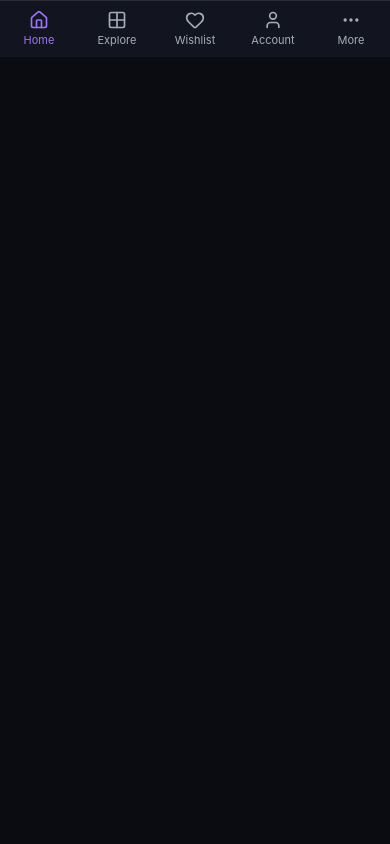
Test: AppBottomNav — More menu › shows Notifications and Help as honestly disabled for a CUSTOMER — never fake working links
This screenshot has width=390, height=844.
Click the button "More" at (351, 29), box [312,1,389,57]
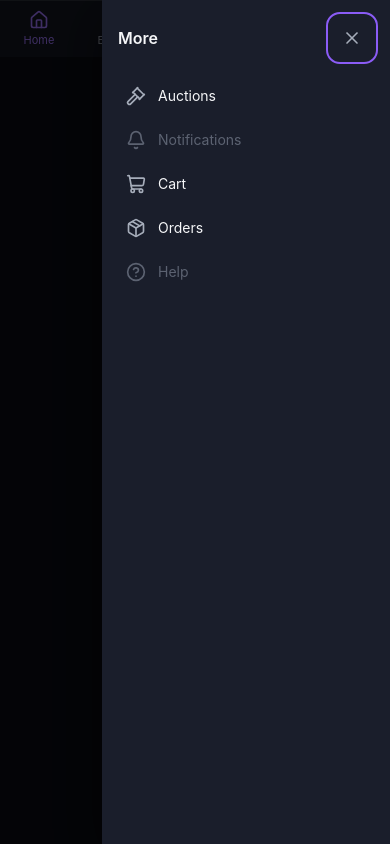
Result: the text "Notifications" is shown at [126,130,242,150]
Result: the text "Help" is shown at [126,262,188,282]
